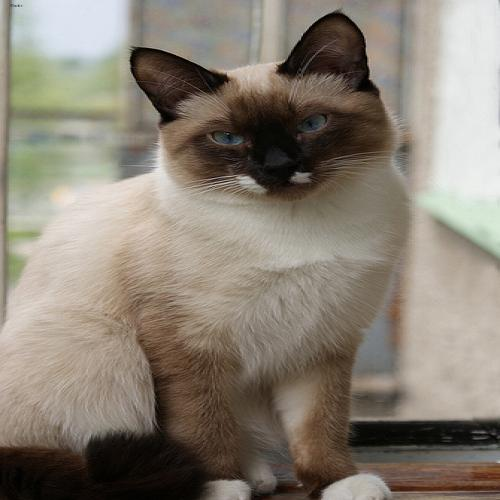siamese: (121, 8, 423, 206)
